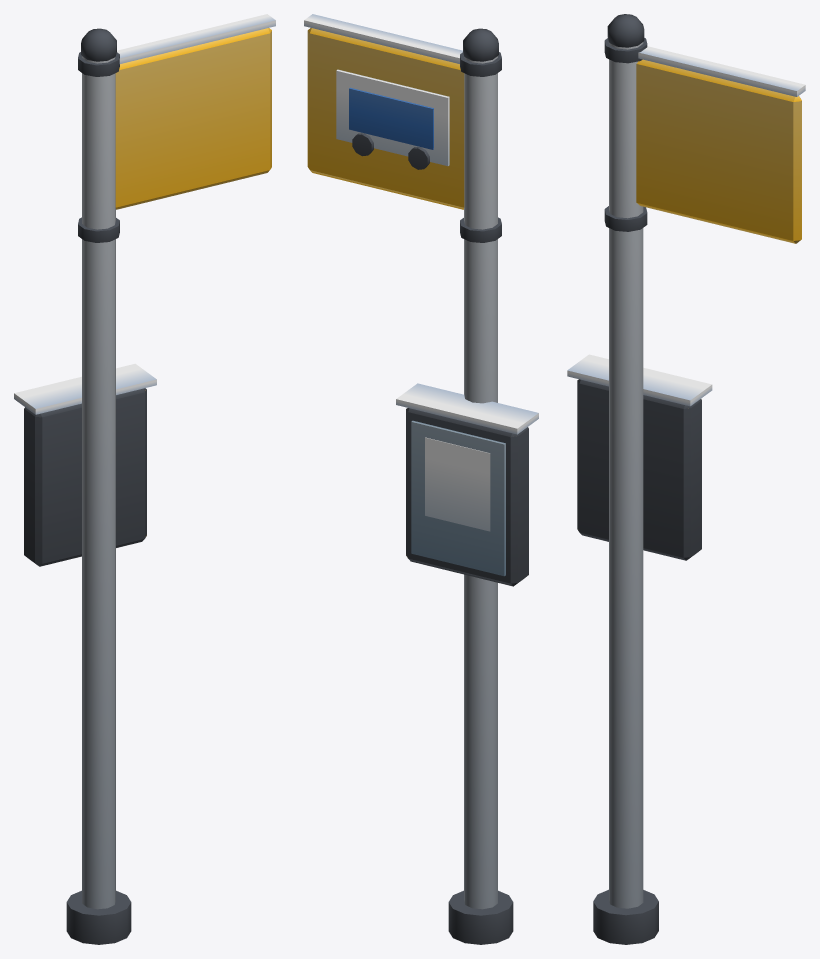
The model's file is ck_bus_stop_pole.fbx.
3 views of the same model, side by side, from view 1: azimuth 30°, elevation 25°; view 2: azimuth 150°, elevation 25°; view 3: azimuth 330°, elevation 25° (orthographic).
Parts seen in each view (by area): view 1: ck_bus_stop_pole; view 2: ck_bus_stop_pole; view 3: ck_bus_stop_pole.
Boxes of the visible parts, <box> form: ck_bus_stop_pole: <box>14,14,275,944</box>; ck_bus_stop_pole: <box>304,14,538,944</box>; ck_bus_stop_pole: <box>567,14,805,944</box>.
Bounding box in the file's own units: 106 × 390 × 31.69.
